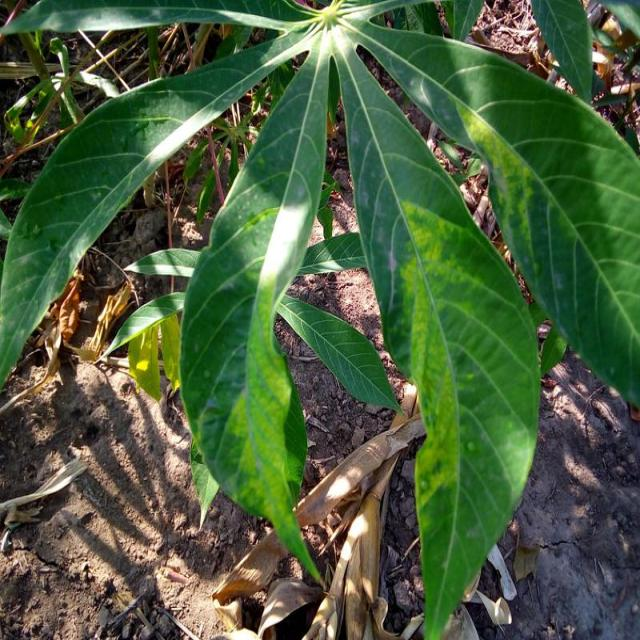cassava leaf: (1, 1, 638, 635), (332, 28, 542, 638), (340, 15, 639, 411), (177, 29, 332, 584)
